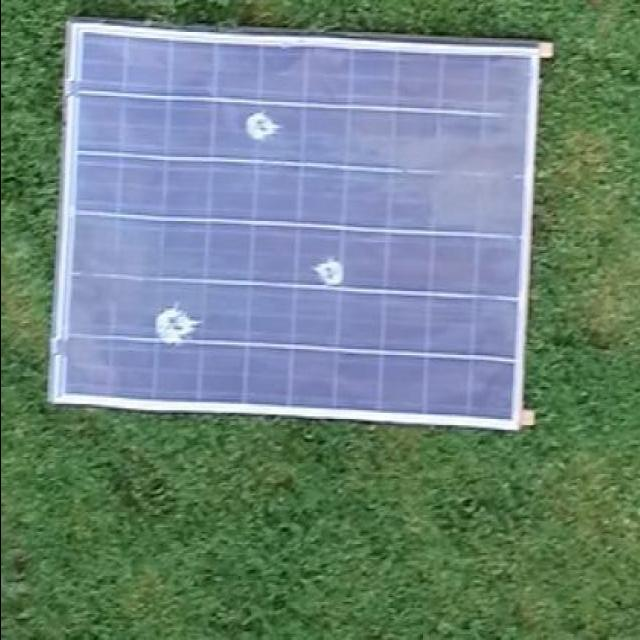soiled: (38, 22, 543, 434)
